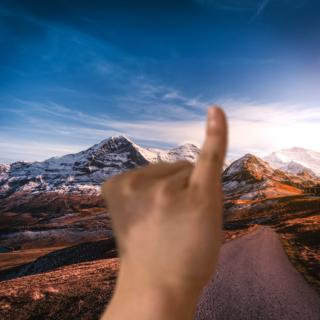FINE: (97, 102, 234, 298)
